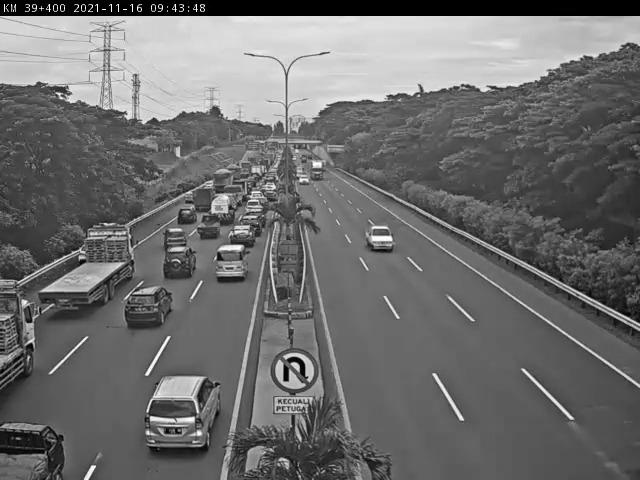car: (144, 374, 221, 455), (0, 420, 63, 480), (124, 286, 172, 328), (214, 245, 249, 283), (163, 246, 195, 278), (165, 233, 193, 260), (366, 224, 394, 249), (195, 216, 219, 241), (230, 225, 254, 250), (240, 215, 262, 235), (175, 204, 197, 223), (248, 208, 268, 224), (246, 199, 264, 213), (177, 195, 193, 207), (78, 245, 88, 262), (248, 191, 264, 200), (299, 176, 306, 183)
small truck: (225, 184, 244, 205)
truck-l-: (40, 225, 136, 306), (210, 169, 232, 196), (308, 157, 324, 182)
truck-m-: (187, 186, 214, 215), (211, 195, 234, 225)
